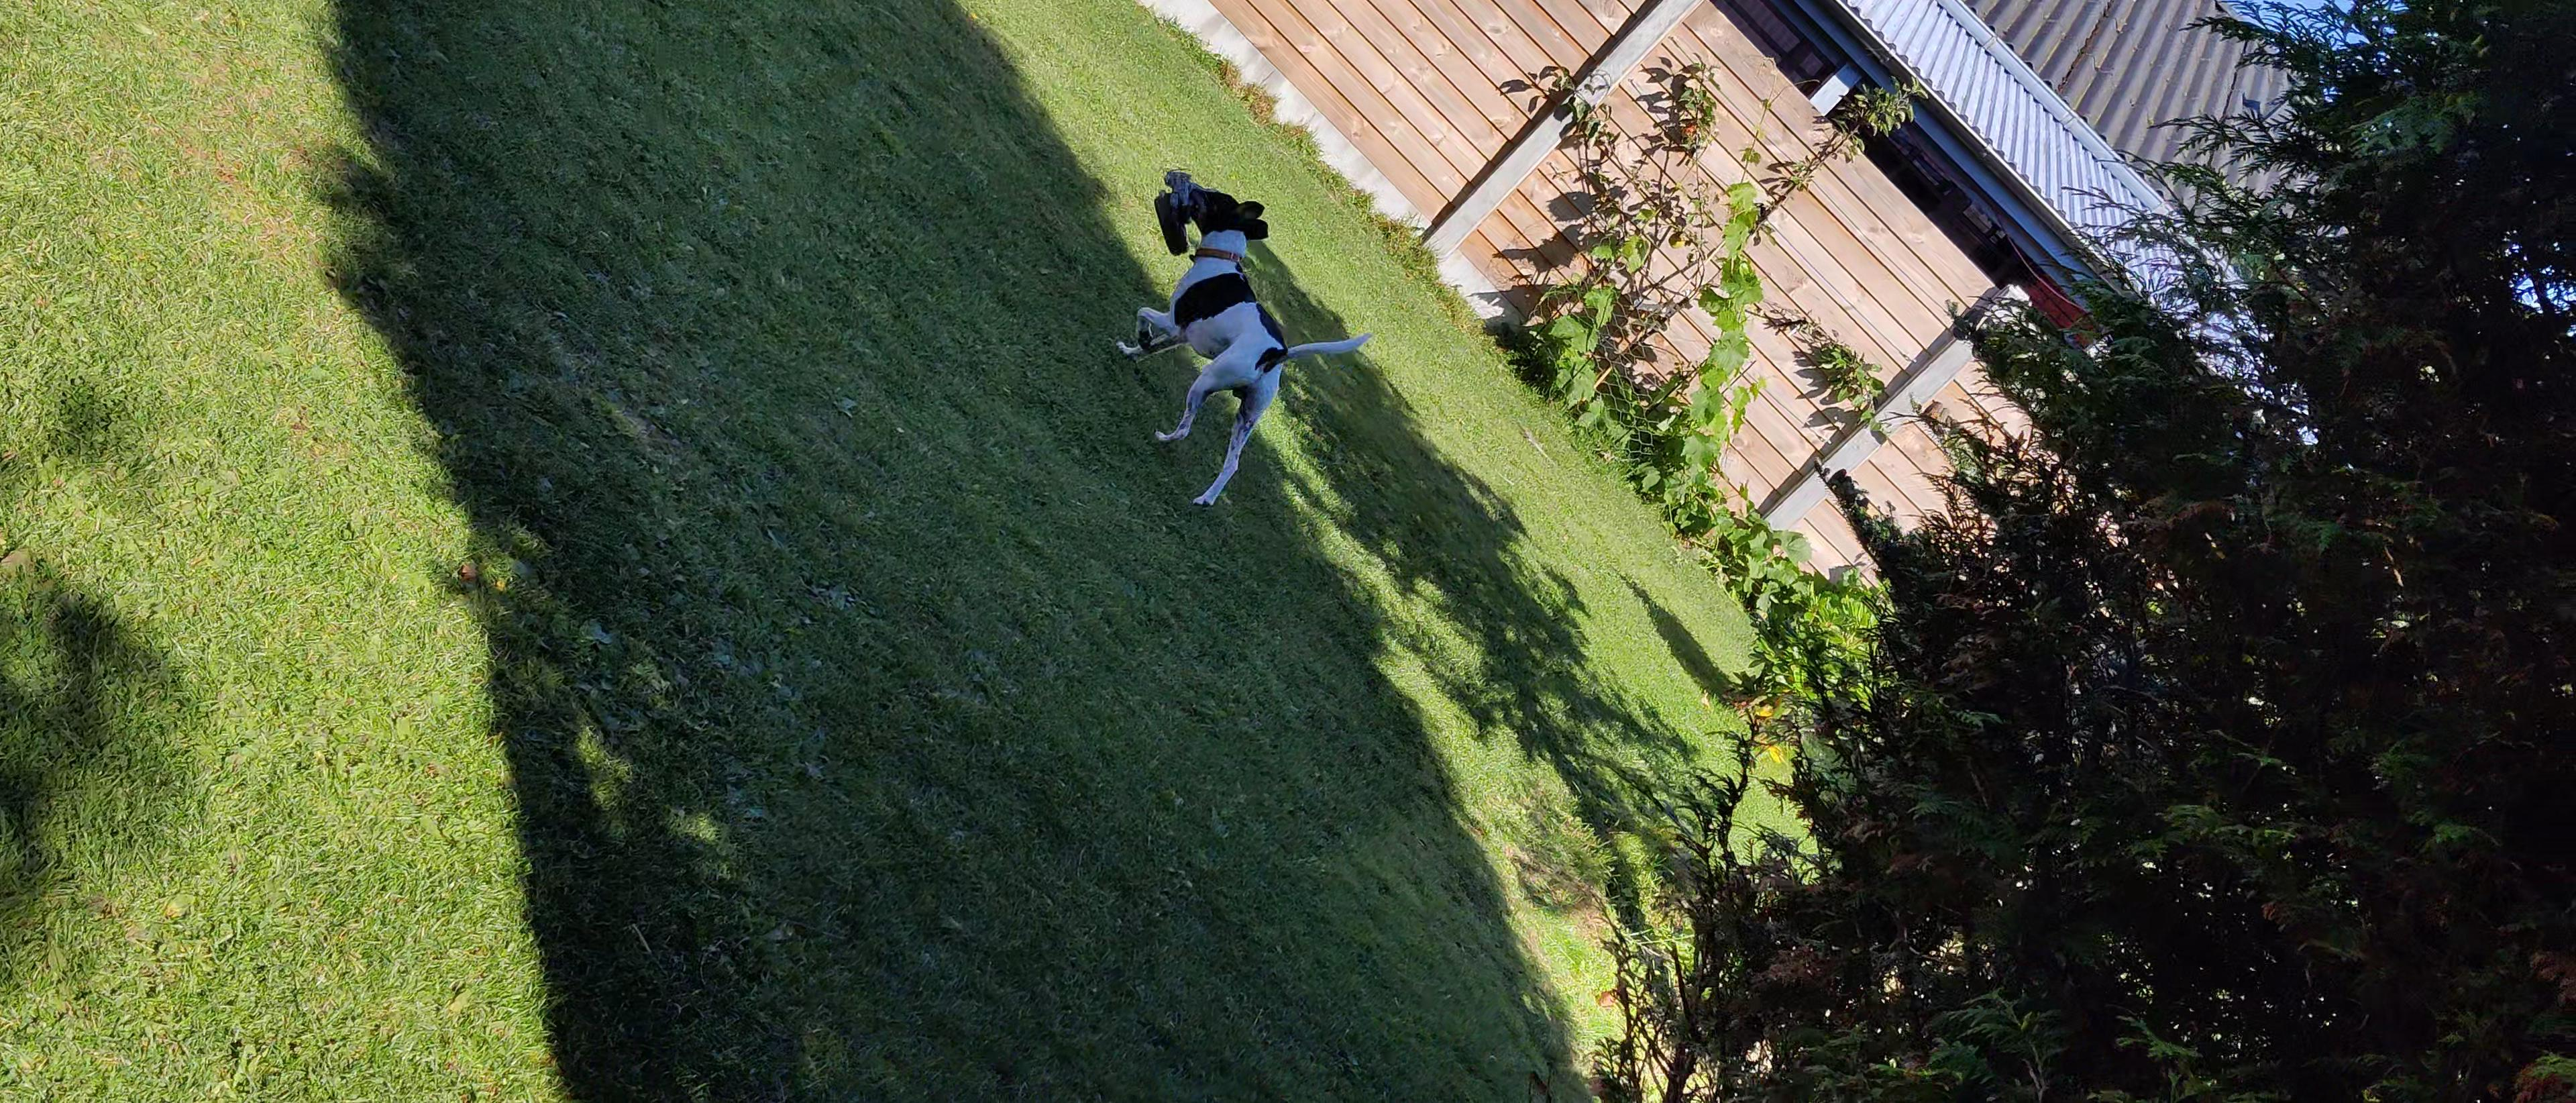Dog: (1114, 182, 1375, 508)
